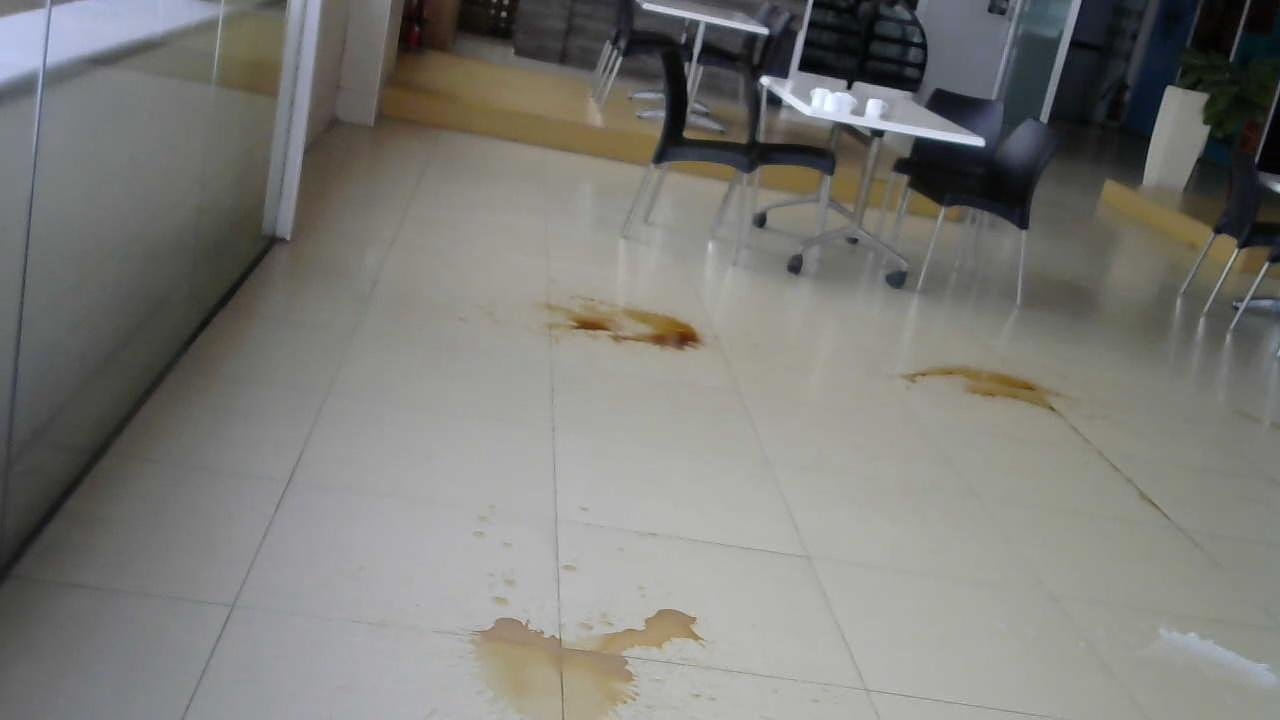dirty_floor: (453, 587, 712, 714), (531, 291, 709, 361), (897, 359, 1074, 422), (1140, 619, 1279, 693)
